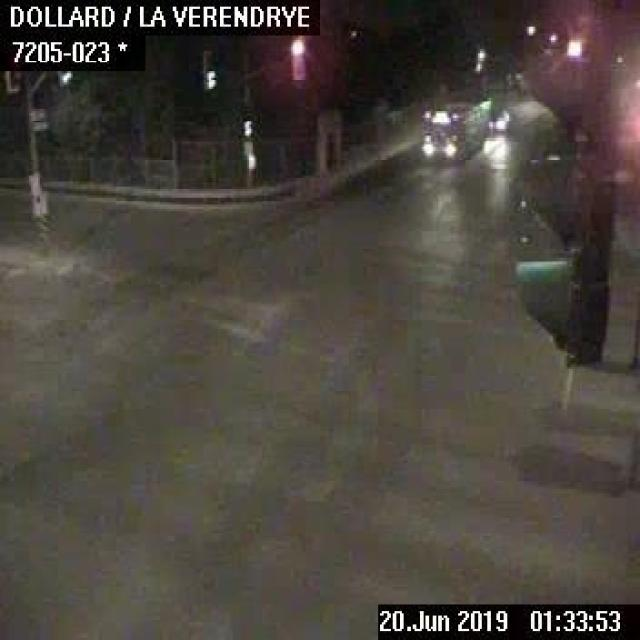bus: (418, 98, 495, 156)
